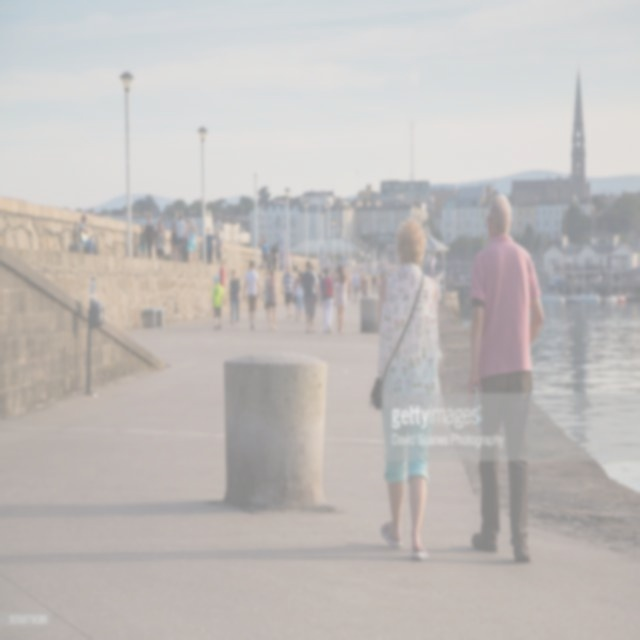pessoa: (465, 190, 546, 570), (368, 214, 443, 564), (540, 264, 640, 302), (424, 250, 470, 290), (298, 258, 318, 336), (241, 258, 260, 330), (319, 264, 337, 336), (333, 264, 348, 334), (77, 212, 99, 257), (264, 267, 279, 332), (280, 264, 296, 320), (228, 267, 242, 329), (174, 210, 189, 266), (210, 272, 224, 330), (370, 258, 390, 298), (186, 215, 200, 268), (292, 268, 305, 324), (310, 264, 320, 324), (143, 214, 155, 262), (154, 220, 166, 262), (172, 210, 180, 264), (181, 218, 190, 262), (206, 227, 216, 266), (219, 258, 227, 306), (350, 269, 360, 304), (138, 224, 147, 262), (214, 230, 222, 266), (270, 244, 279, 272), (257, 232, 265, 252), (290, 254, 298, 274), (261, 240, 268, 262), (359, 272, 366, 292), (342, 248, 347, 273), (200, 238, 204, 268), (362, 258, 369, 274), (263, 270, 268, 287)
